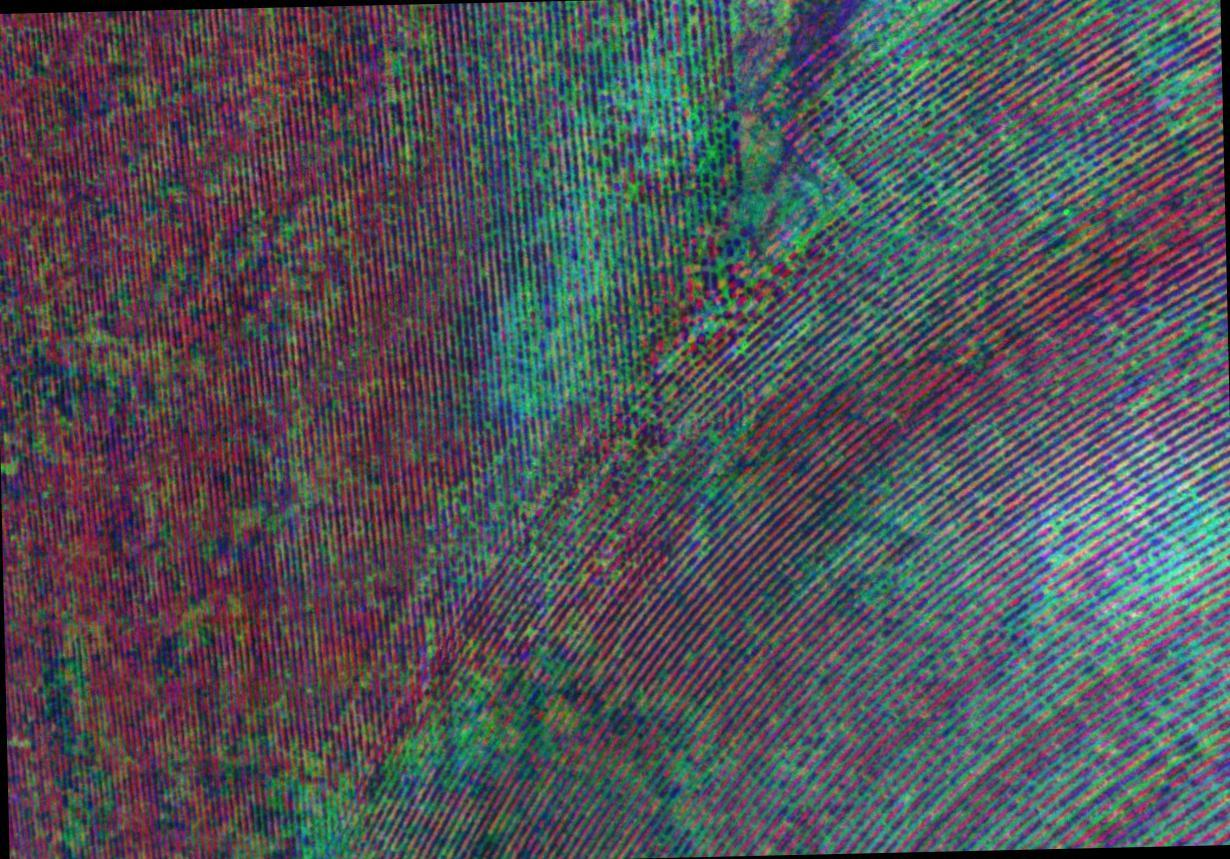dc: (508, 278, 602, 401), (1138, 495, 1230, 610), (588, 55, 677, 158), (286, 783, 377, 859), (863, 0, 936, 79), (433, 705, 516, 773)
